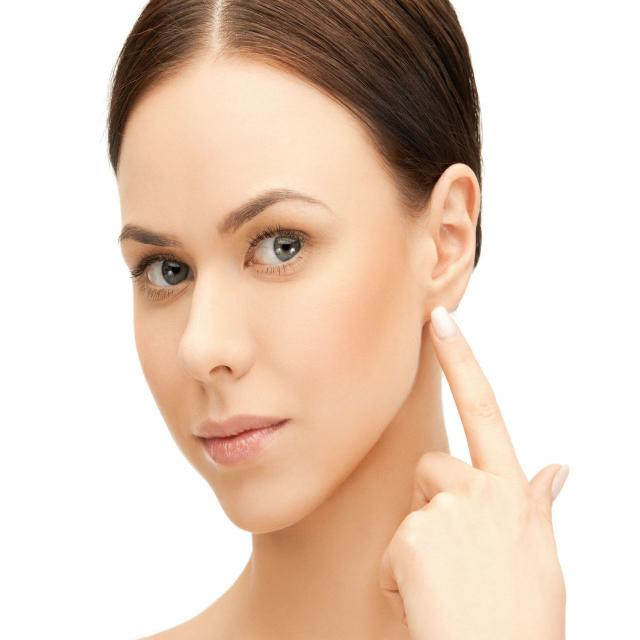earlobe: (424, 274, 460, 320)
eye: (244, 231, 311, 274), (136, 250, 194, 290)
nose: (178, 359, 242, 410)
wholeear: (424, 164, 481, 320)
